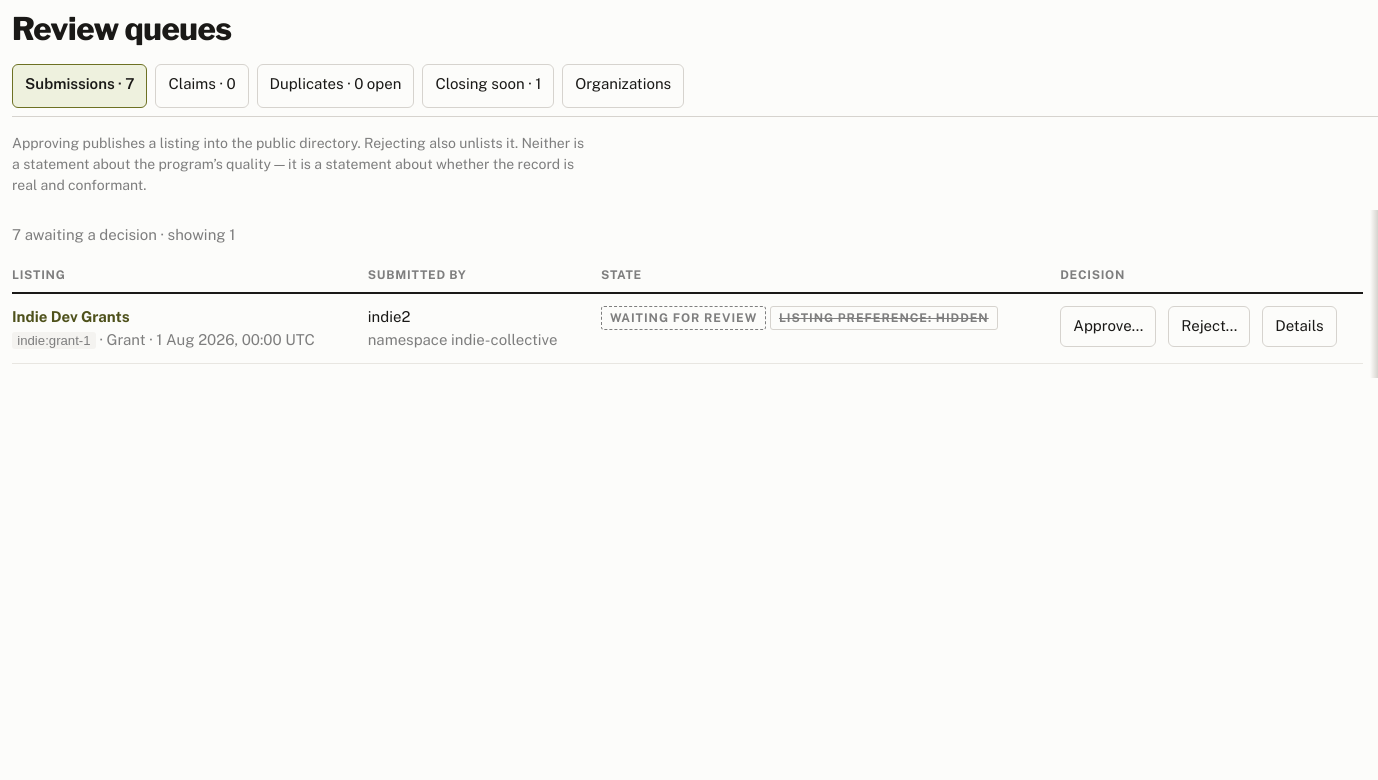
Scenario: deciding a submission › does not publish on the first click
Click the button "Approve…" at (1108, 327), box [1060,306,1156,347]
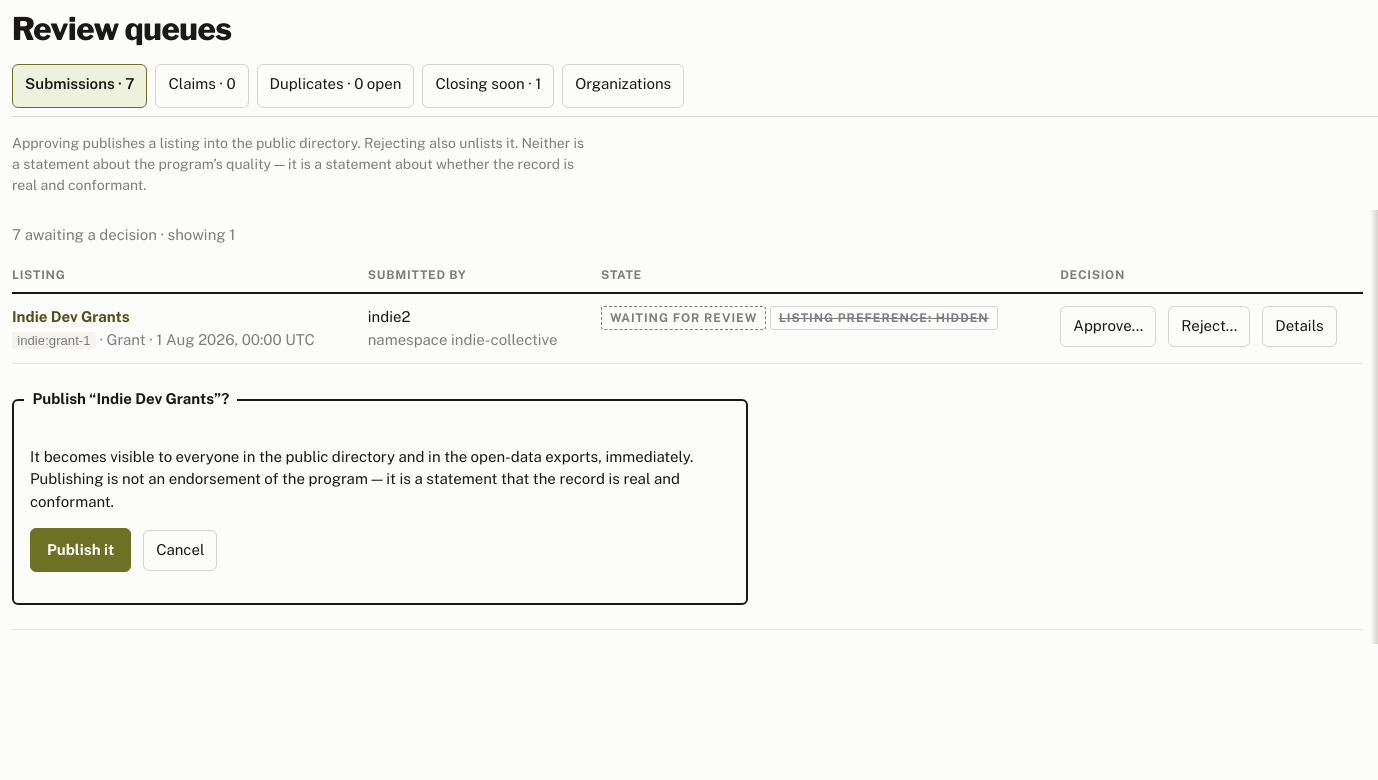
Check: the text "Publish “Indie Dev Grants”?" is shown, box [24,388,237,411]
Click the button "Publish it" at (81, 550), box [30,528,131,572]
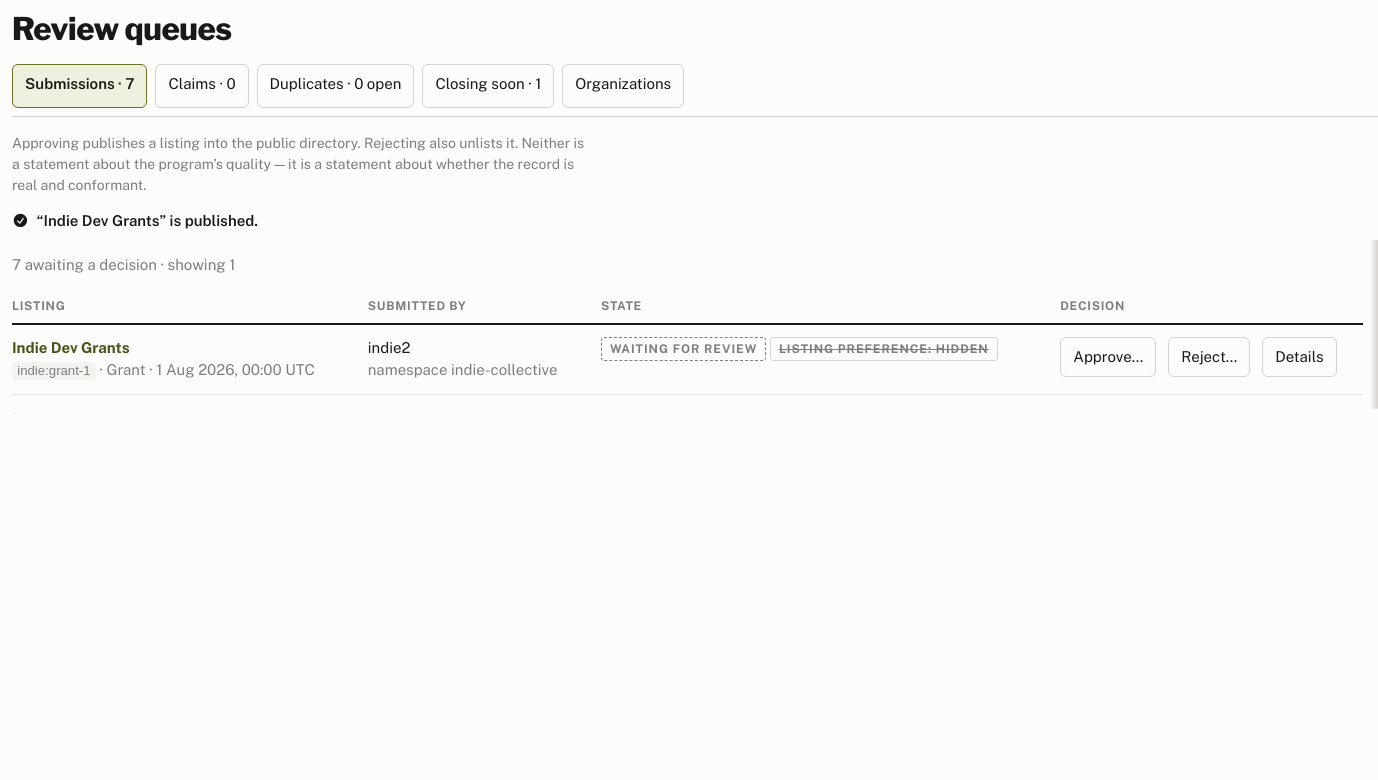
Check: the text "“Indie Dev Grants” is published." is shown, box [12,212,258,229]
